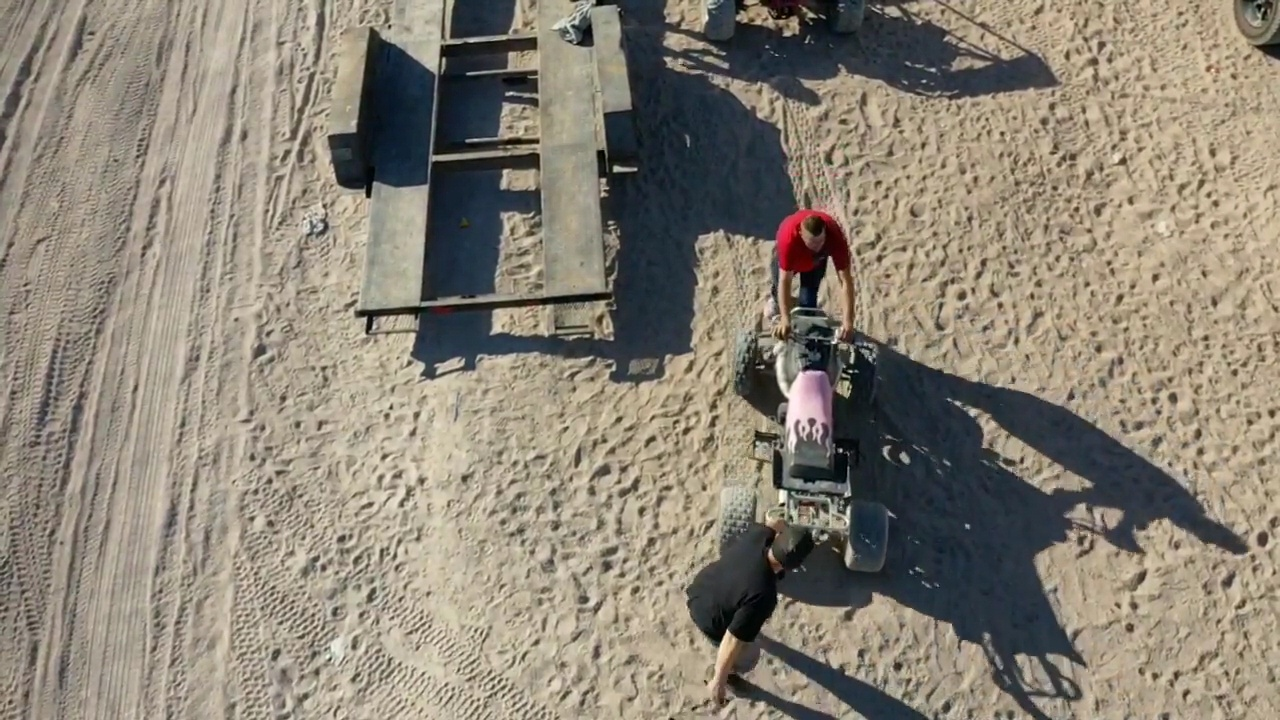insan: (684, 507, 816, 708), (763, 195, 868, 338)
